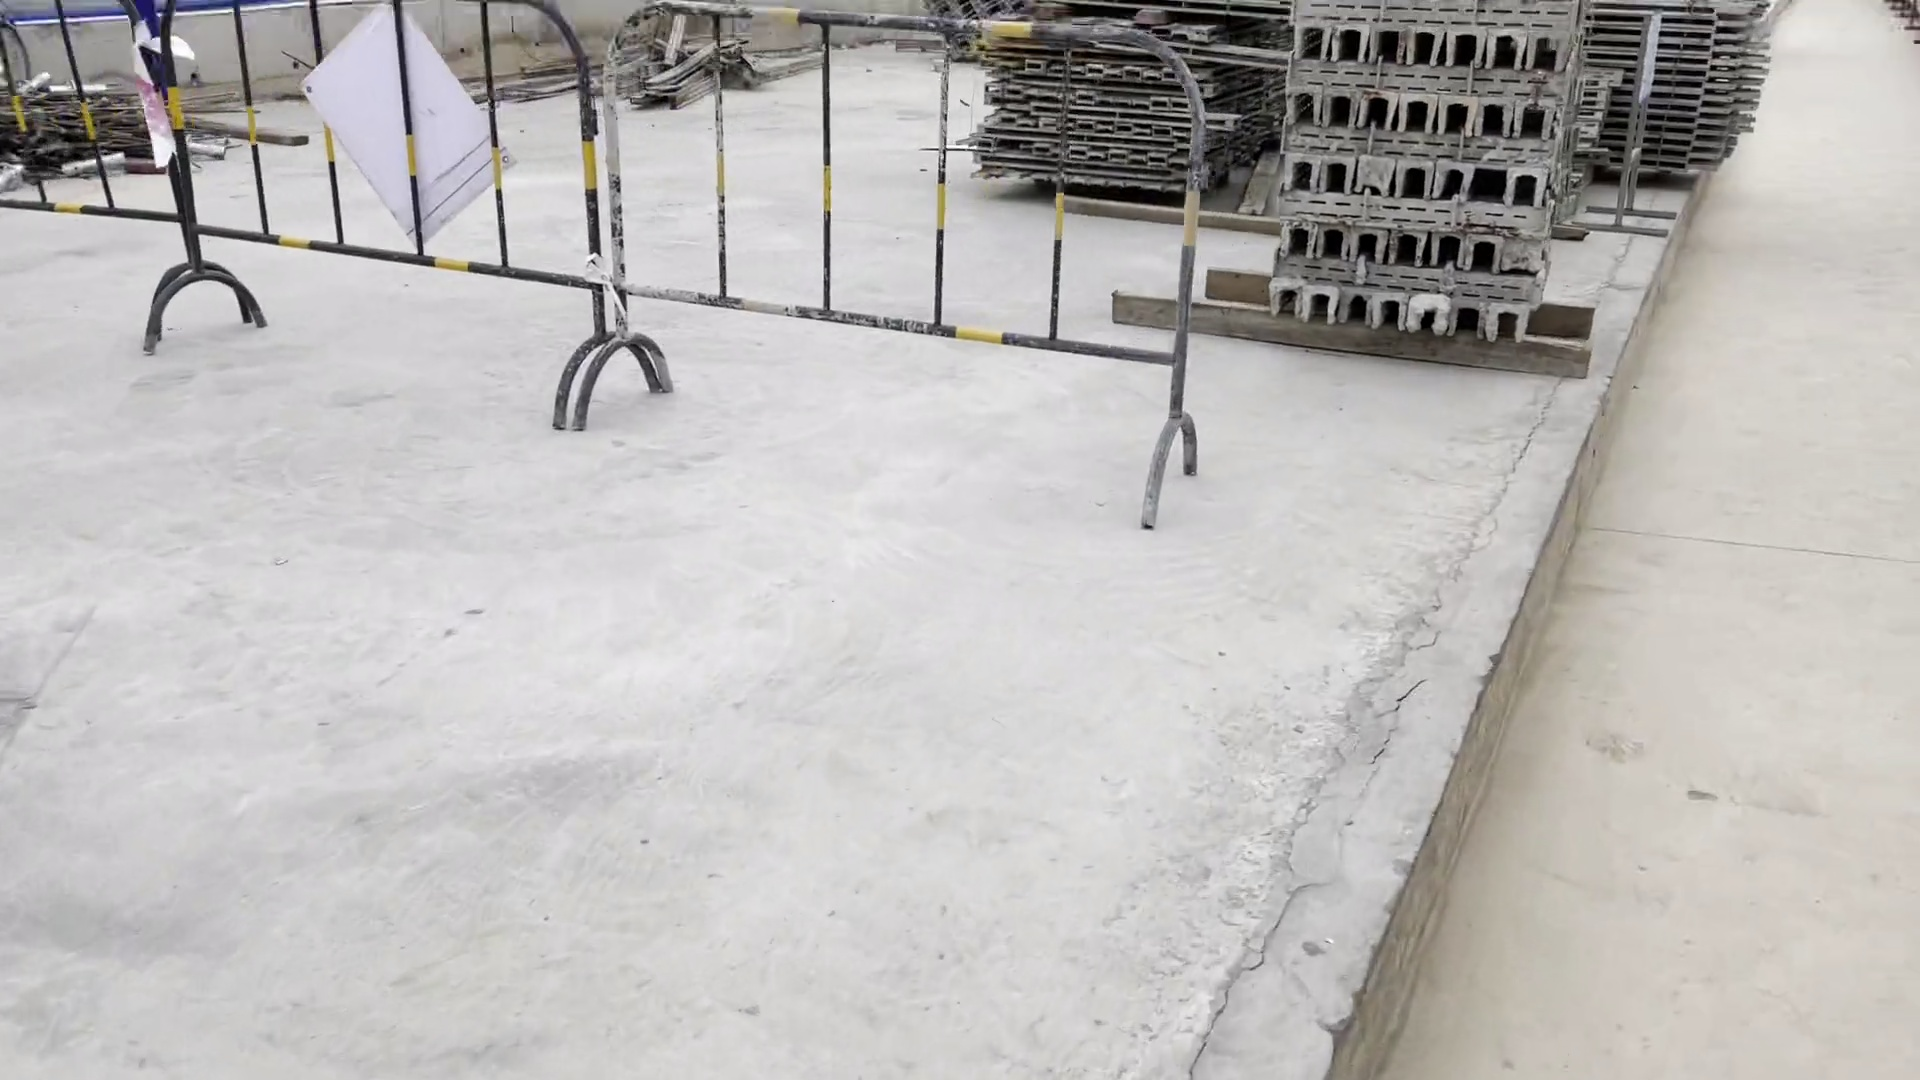fence: (1, 1, 1261, 566)
slogan: (1621, 15, 1676, 123)
